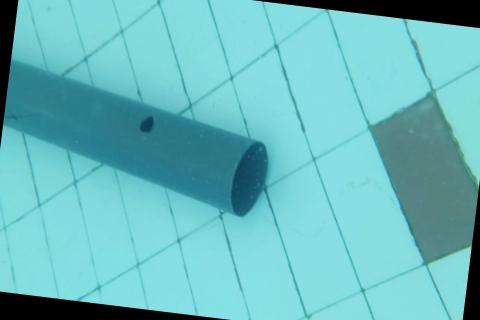kebocoran: (137, 112, 156, 135)
keretakan: (5, 107, 40, 125)
